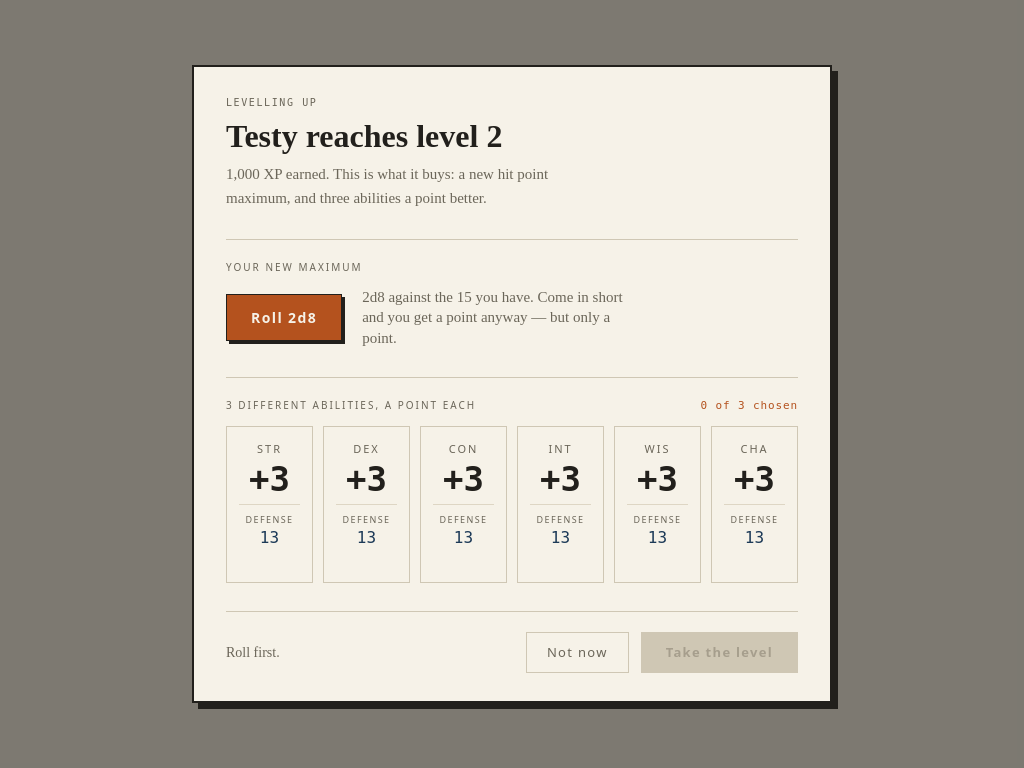
it: the three raises › shows the ability and its defense one better before anything is committed
Click the button "str +3 Defense 13": (270, 504) [226,426,313,583]
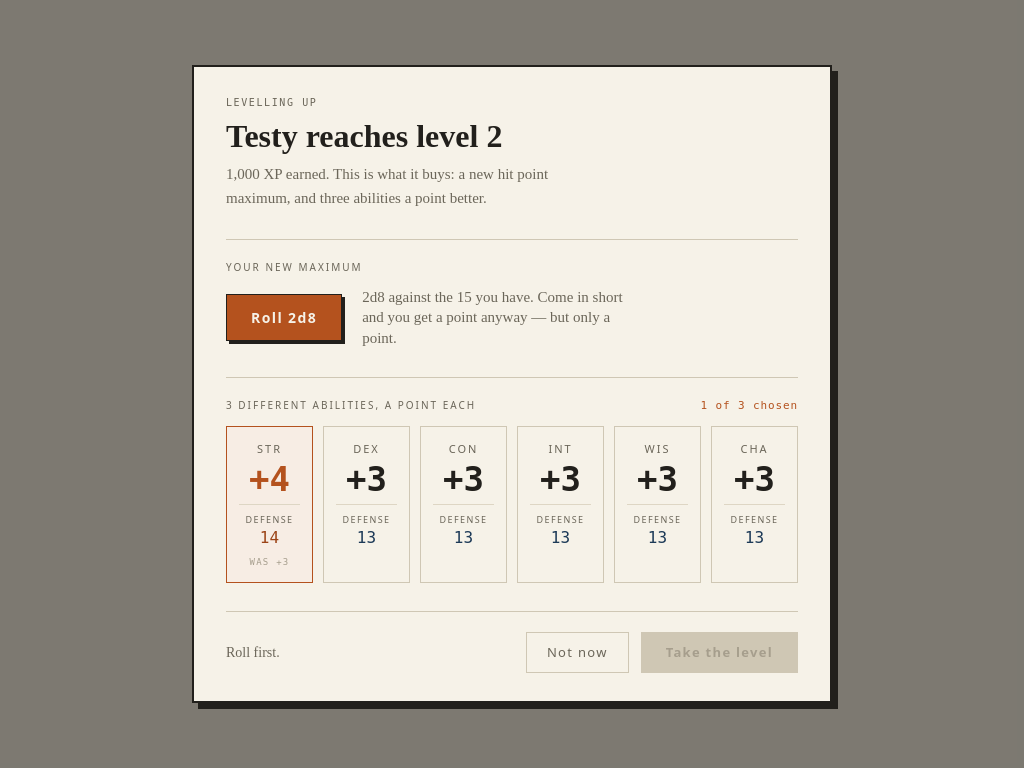
Now the button "str +4 Defense 14 was +3" is shown, box [226,426,313,583]
